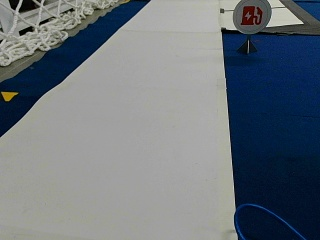battery: (232, 0, 271, 33)
